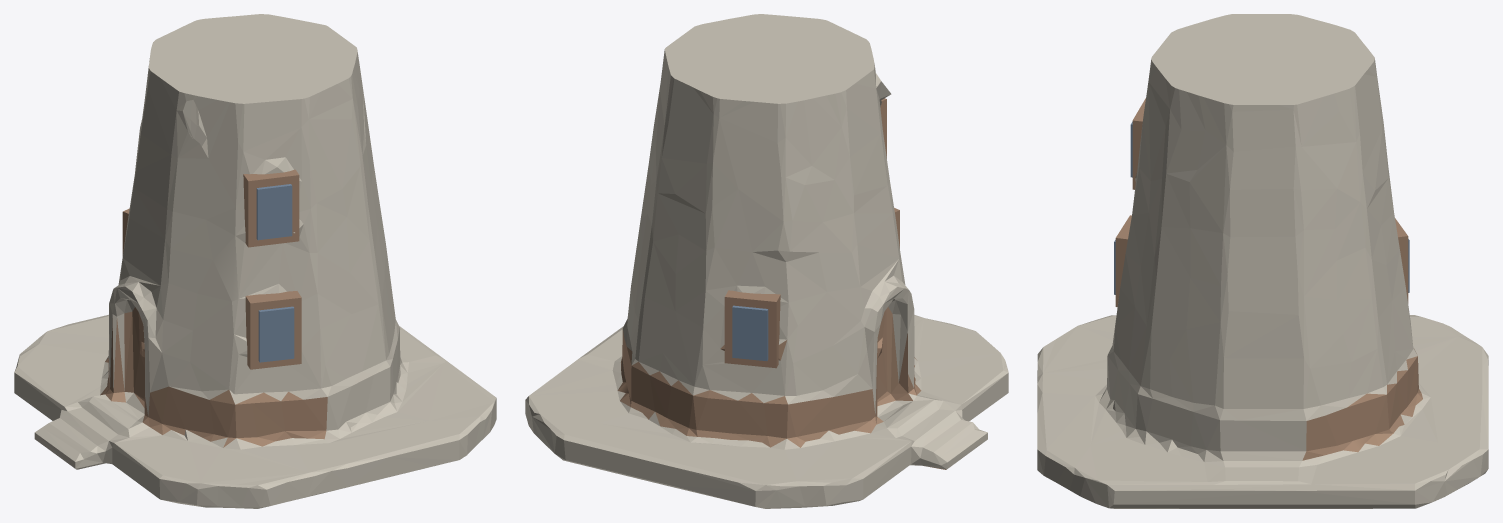
File: etape-2.glb
3 renders of one model, left to right at view 1: azimuth 30°, elevation 25°; view 2: azimuth 150°, elevation 25°; view 3: azimuth 270°, elevation 25°, orthographic. The views are drawn at different scales.
Visible parts, largest first — view 1: geometry_0; view 2: geometry_0; view 3: geometry_0.
Boxes of the visible parts, left/top/right/bottom form: geometry_0: left=14, top=14, right=496, bottom=508; geometry_0: left=525, top=14, right=1008, bottom=508; geometry_0: left=1037, top=14, right=1488, bottom=508.
Bounding box in the file's own units: 0.6427 × 0.5815 × 0.6512.
